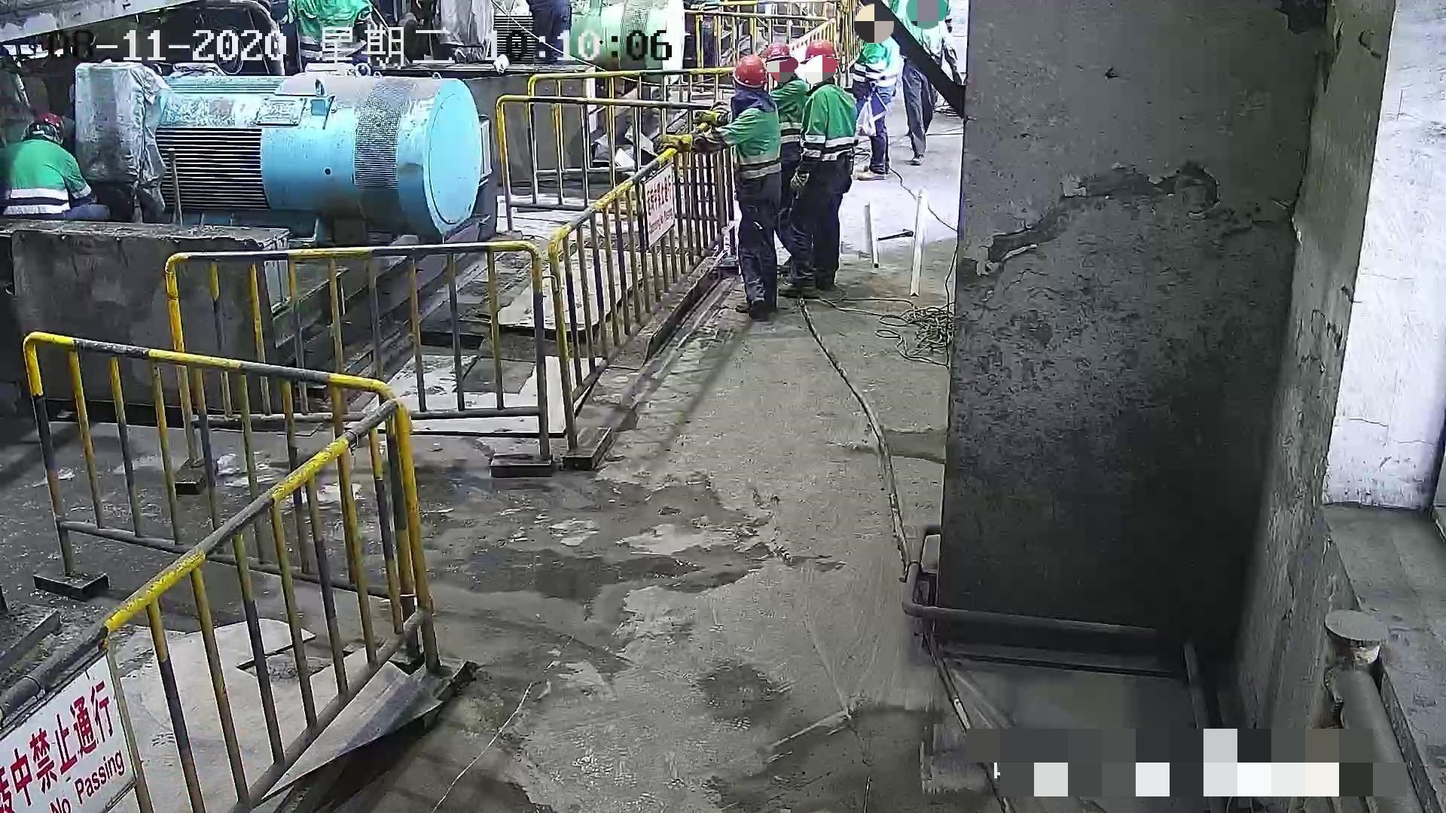hat: (798, 38, 838, 84), (731, 54, 767, 96), (761, 41, 796, 81), (24, 111, 66, 143), (860, 1, 889, 30), (912, 1, 932, 17)
person: (650, 49, 780, 318), (776, 36, 857, 299), (758, 39, 812, 279), (2, 108, 110, 221), (850, 0, 903, 181), (897, 0, 955, 165)
